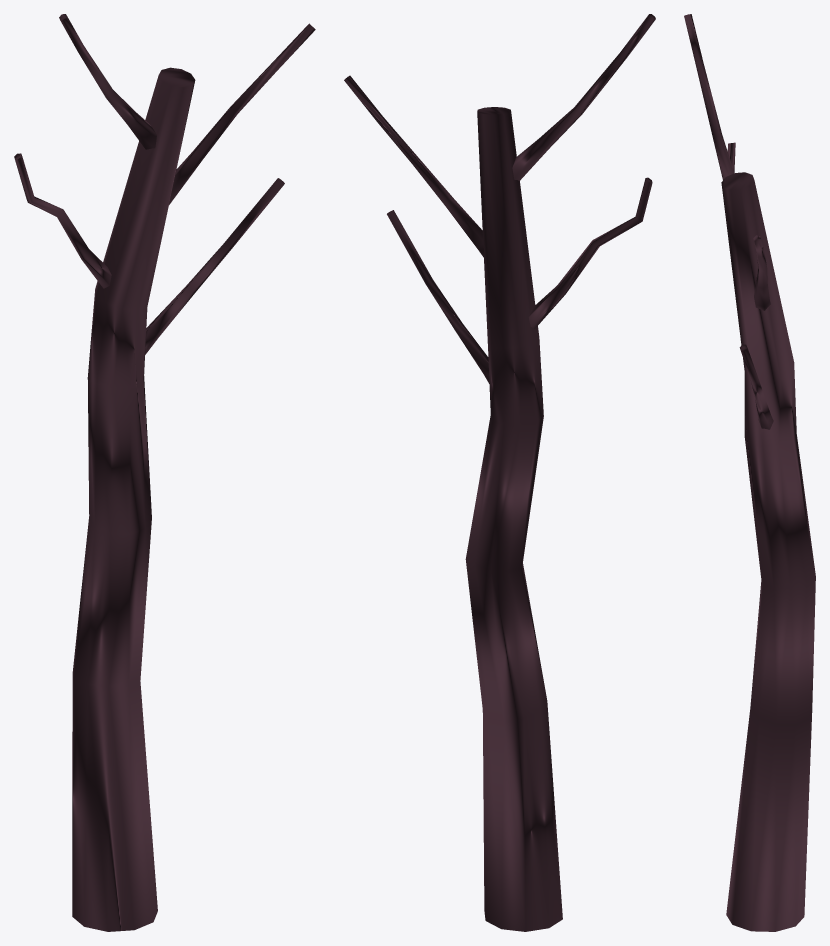
File: tree_bare_4.glb
3 views of the same model, side by side, from view 1: azimuth 30°, elevation 25°; view 2: azimuth 150°, elevation 25°; view 3: azimuth 270°, elevation 25° (orthographic). The views are drawn at different scales.
Parts seen in each view (by area): view 1: tree_bare_4; view 2: tree_bare_4; view 3: tree_bare_4.
Part boxes in pixels (x1,y1,x2,y2): tree_bare_4: (14,14,315,931); tree_bare_4: (344,14,655,931); tree_bare_4: (684,14,815,931).
Size of the model in its own units: 1.9 by 5.5 by 0.7635.
1 material, 1 textured.
